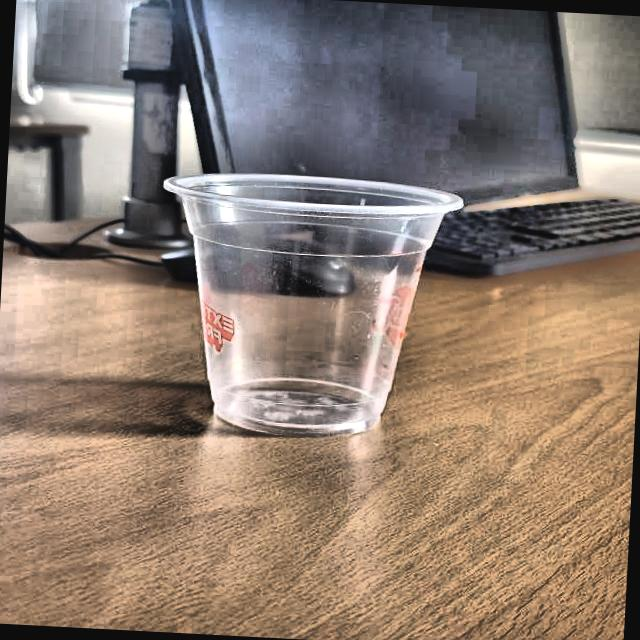plastic cup: (142, 168, 467, 448)
